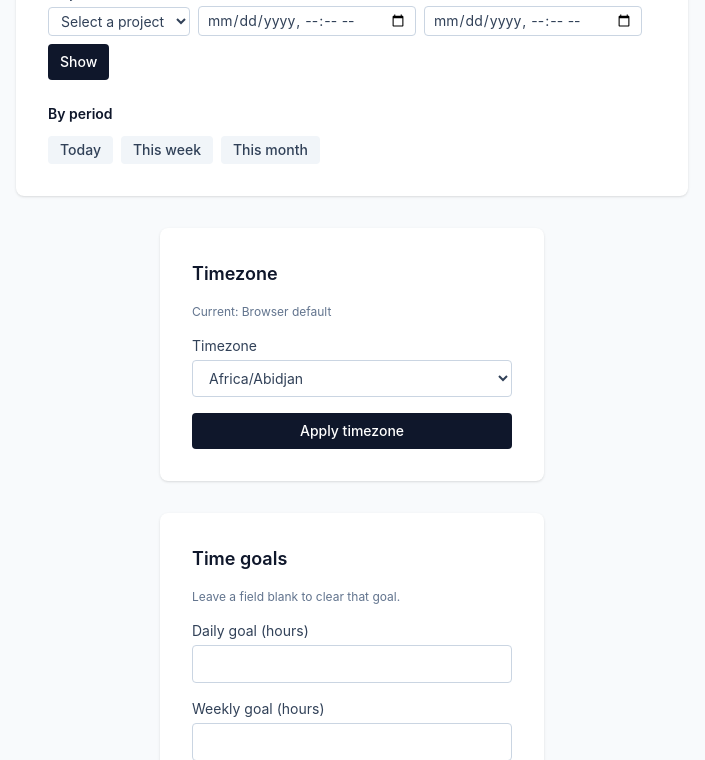
DashboardPage › saves the timezone successfully
The image size is (705, 760).
(page scrolled)
Select "Europe/Berlin" in the dropdown labelled "Timezone": (352, 378) [192,360,512,397]
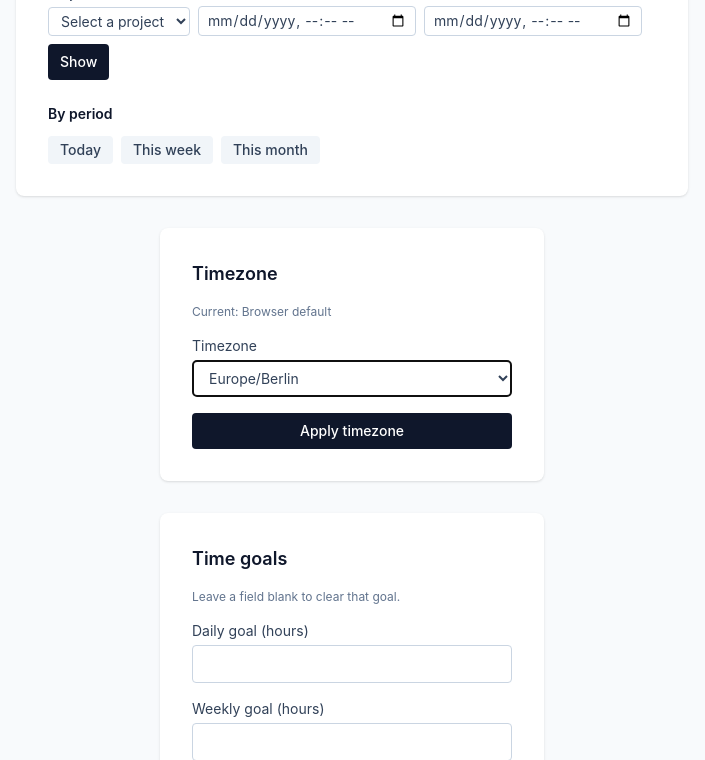
Click the button "Apply timezone": (352, 431) [192,413,512,449]
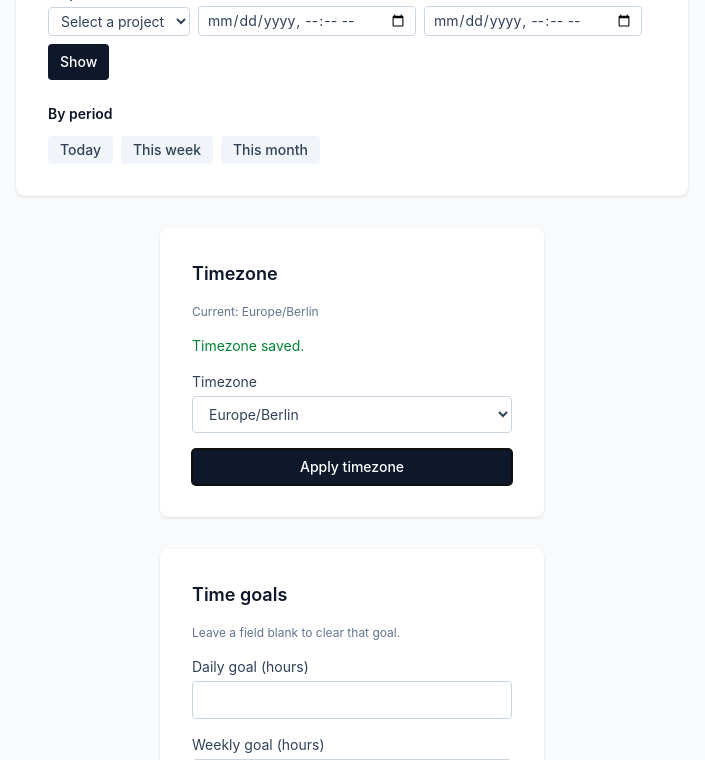
Result: the text "Timezone saved." is shown at [192,337,304,354]
